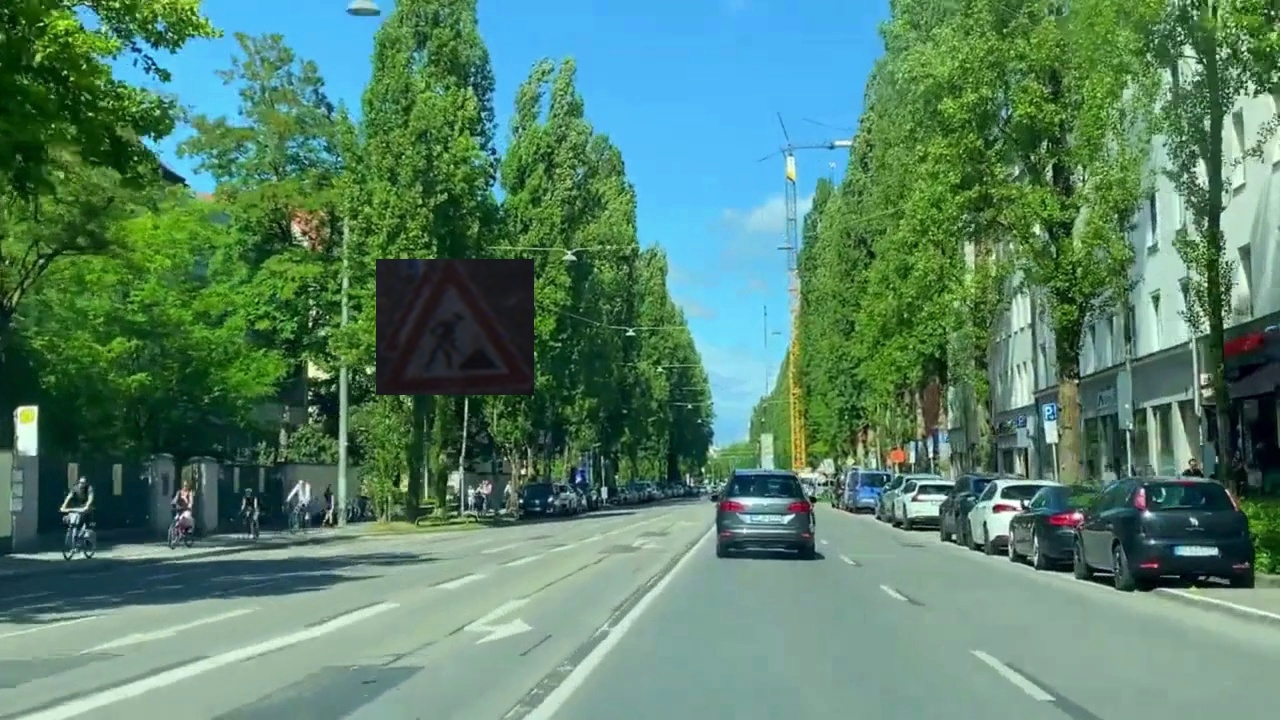Road work: (376, 259, 534, 395)
